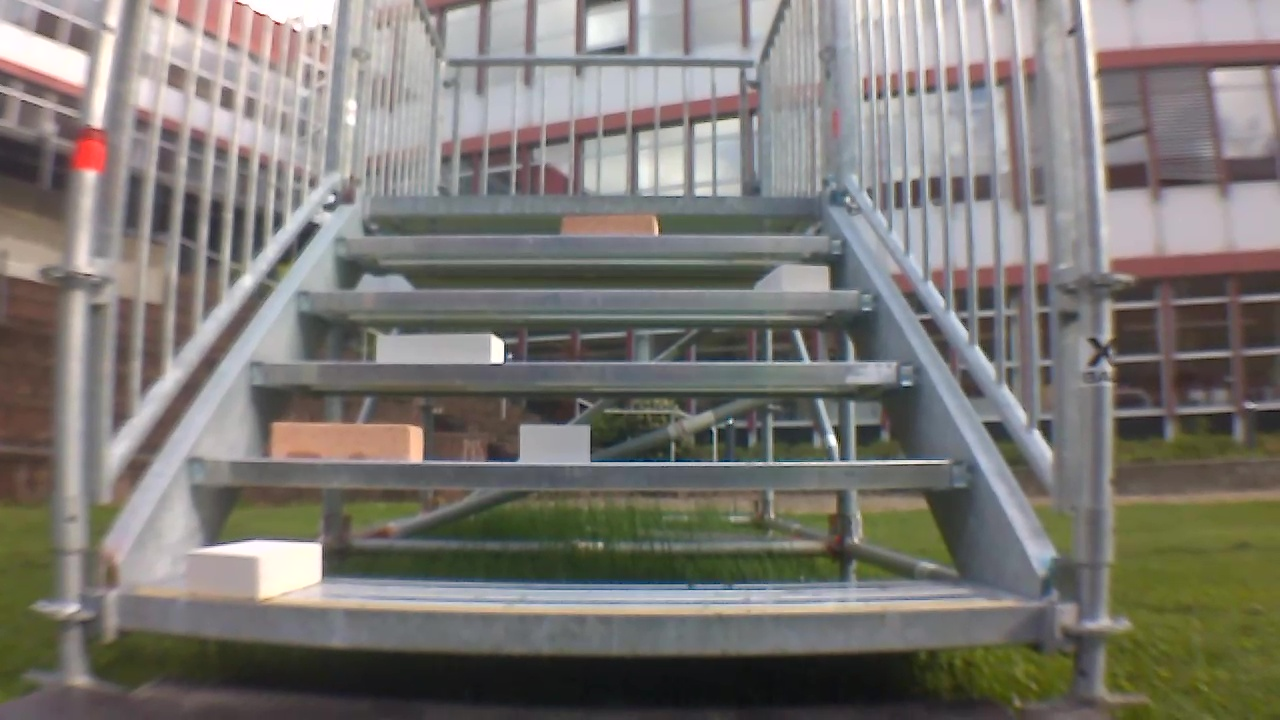brick: (180, 540, 327, 598), (267, 424, 430, 460), (377, 332, 511, 360), (516, 424, 596, 465), (750, 262, 837, 292), (563, 212, 661, 233)
edge: (118, 603, 1053, 639), (174, 459, 975, 487), (245, 361, 922, 388), (298, 290, 877, 315), (333, 233, 846, 259), (370, 195, 818, 216)
stairs: (51, 0, 1113, 709)
steps: (98, 195, 1070, 643)
